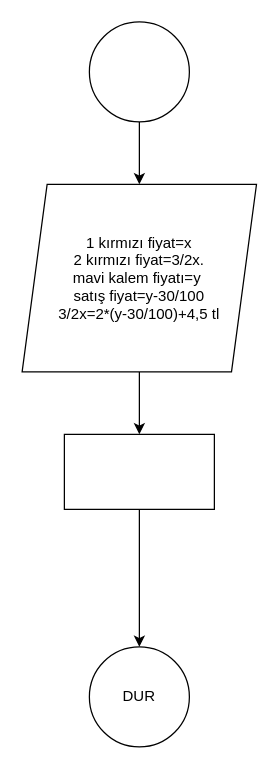
The diagram is 279 pixels wide and 769 high, and some of its shapes have lost their labels. Each missing label, with the centre of its shape:
"150x-140x=4,5 tl 10x=4,5 tl 100 x=45 tl" goes at (138,471).
"BAŞLA" goes at (138,71).
